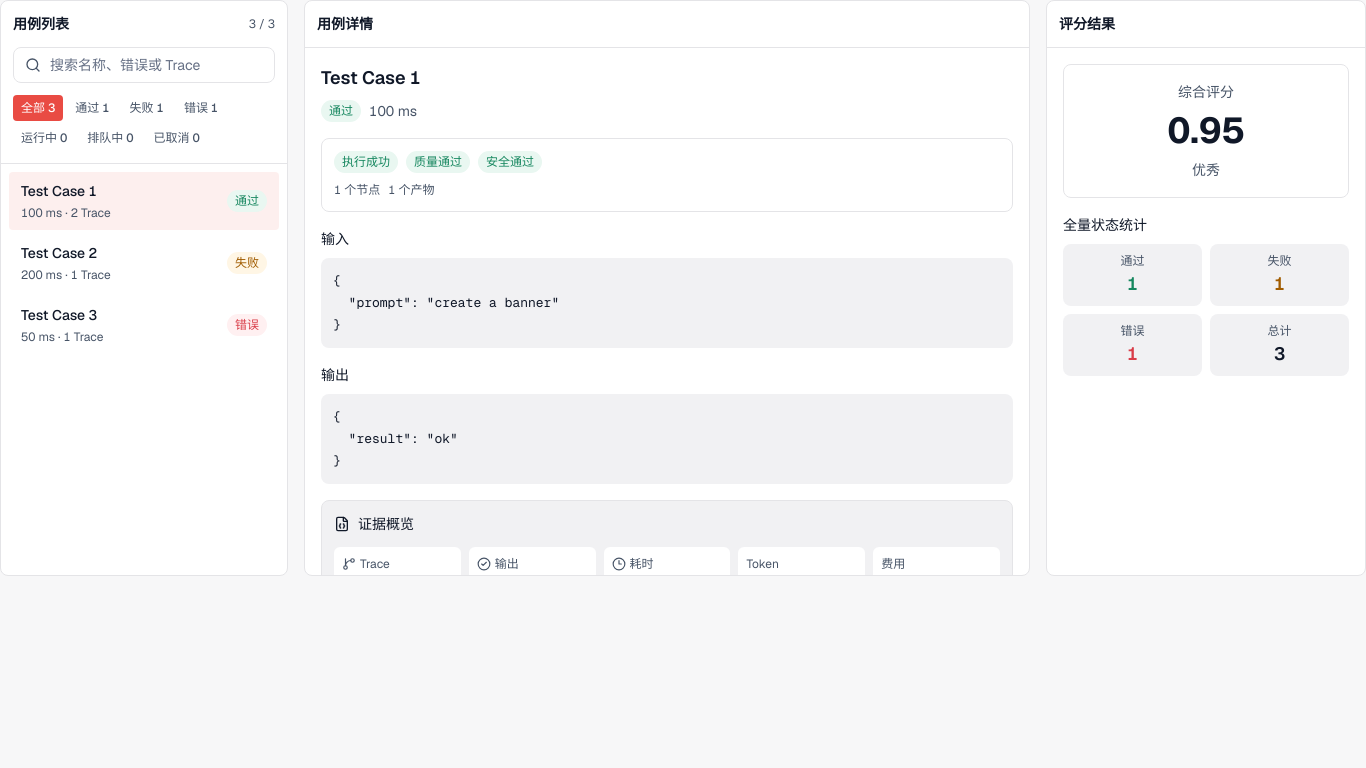
Test: RunResultWorkbench › selects case when clicked
This screenshot has width=1366, height=768.
Click the button "Test Case 2 200 ms · 1 Trace 失败" at [59, 253], box x1=9 y1=234 x2=279 y2=292
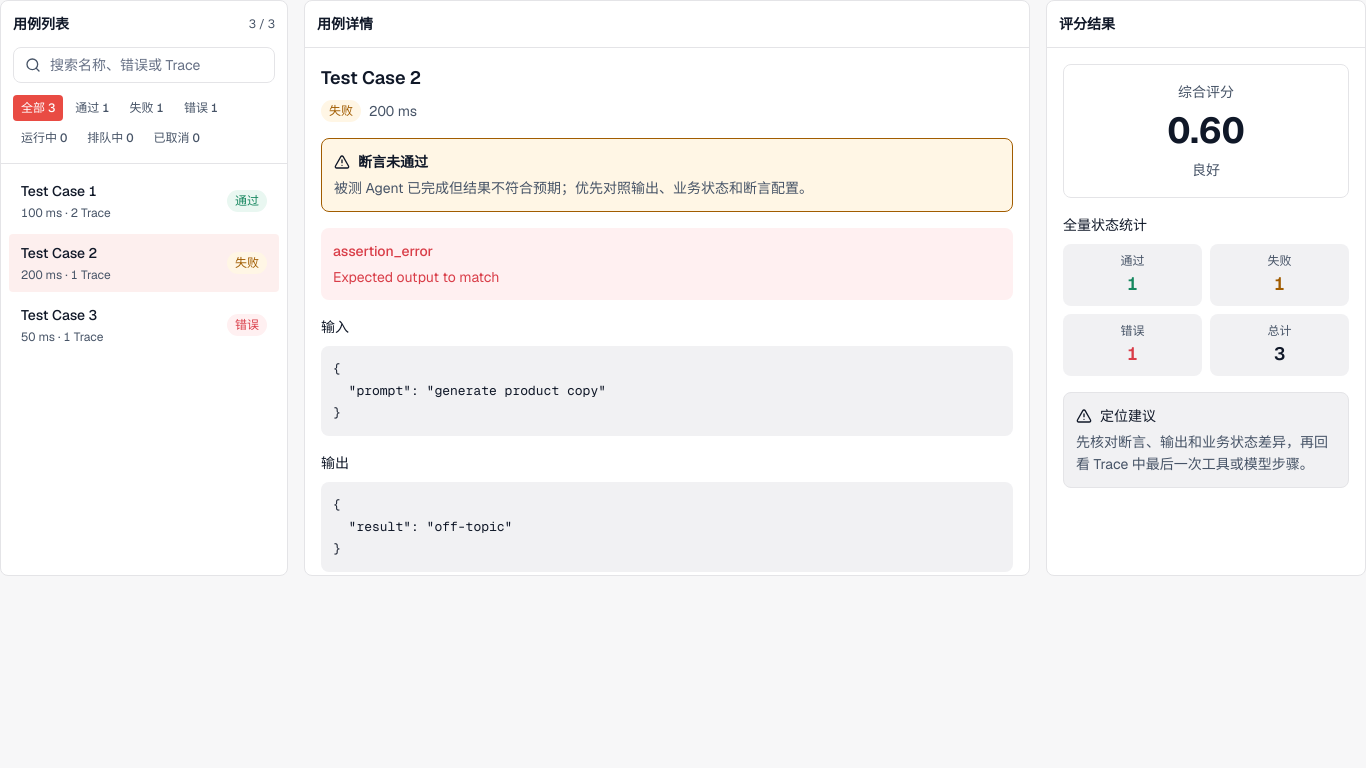
Now the heading "Test Case 2" is shown, box x1=321 y1=66 x2=421 y2=89
